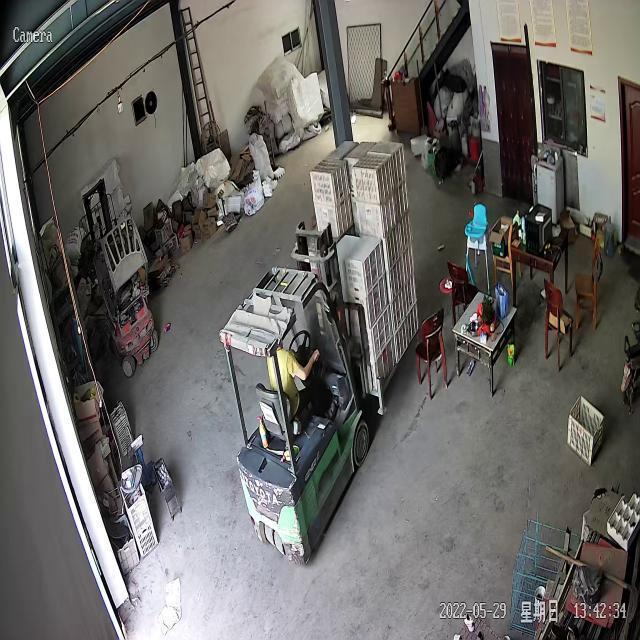forklift: (218, 246, 366, 566)
